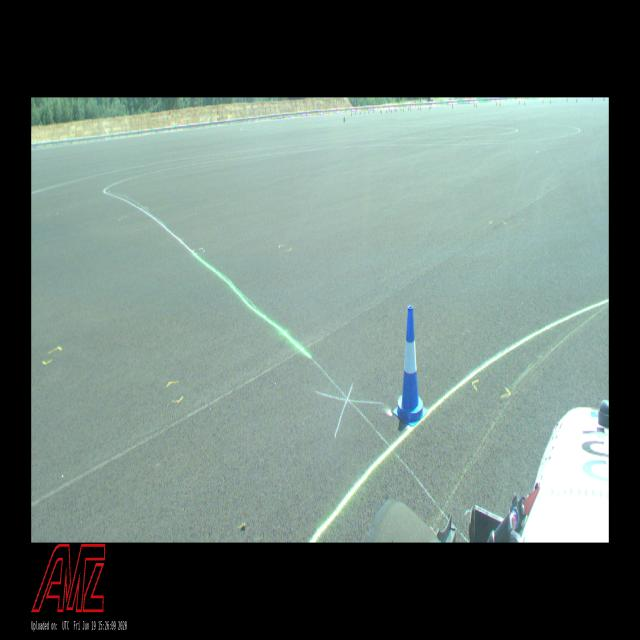blue_cone: (393, 306, 428, 427)
